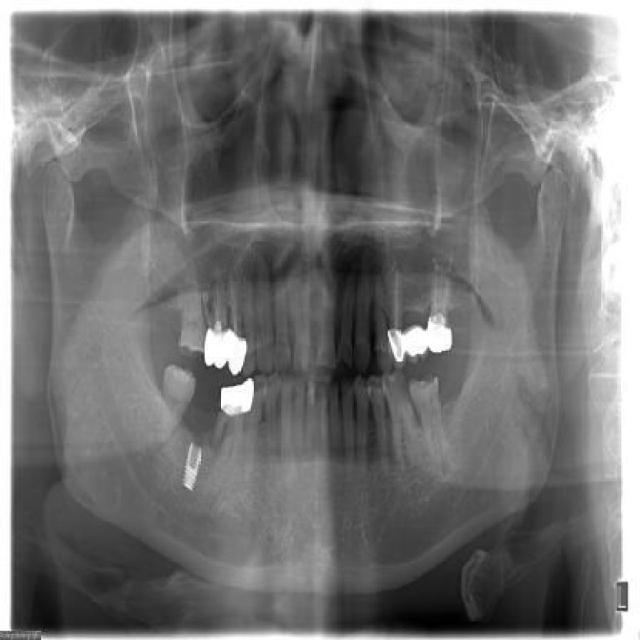implant: (177, 442, 206, 492)
kanal-tedavisi: (386, 266, 405, 324), (432, 266, 449, 314)
kaplama: (220, 381, 259, 422), (204, 324, 230, 371), (225, 332, 250, 378), (426, 314, 454, 351), (385, 319, 408, 362)
kopru: (395, 325, 437, 356)
